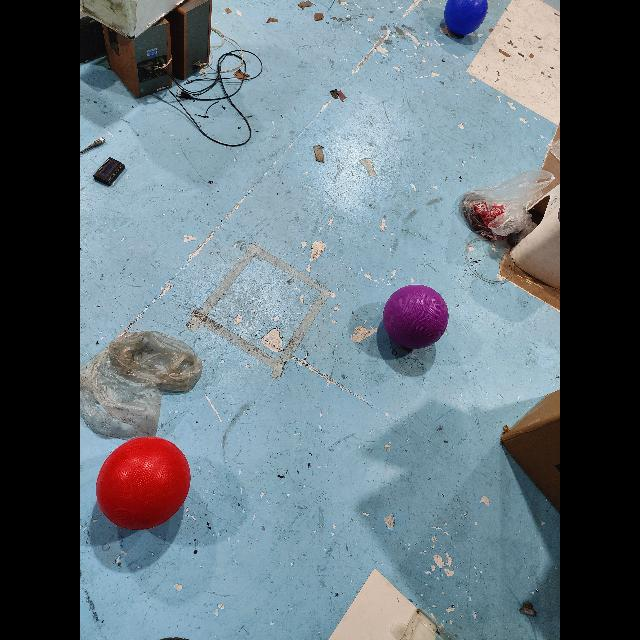B: (443, 1, 487, 36)
P: (383, 283, 449, 349)
R: (95, 436, 191, 530)
